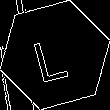L_N: (33, 27, 77, 83)
